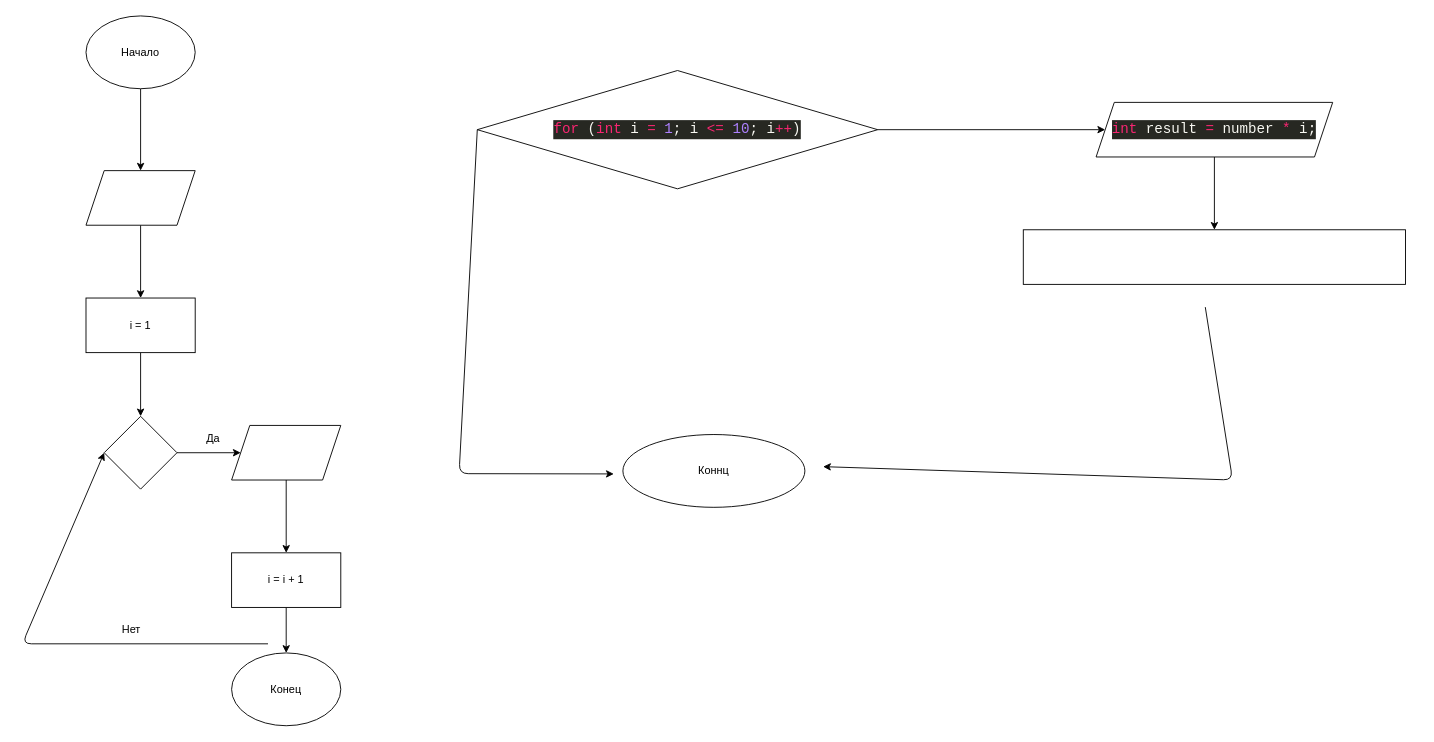
The diagram is 1434 pixels wide and 742 high, and some of its shapes have lost their labels. Each missing label, with the centre of its shape:
Console . WriteLine ( $" { number } x { i } = { result } " );: point 1213,256
I <=10?: point 140,452
Ввод: число N: point 140,197
Вывод: N * i = N * i: point 286,452
